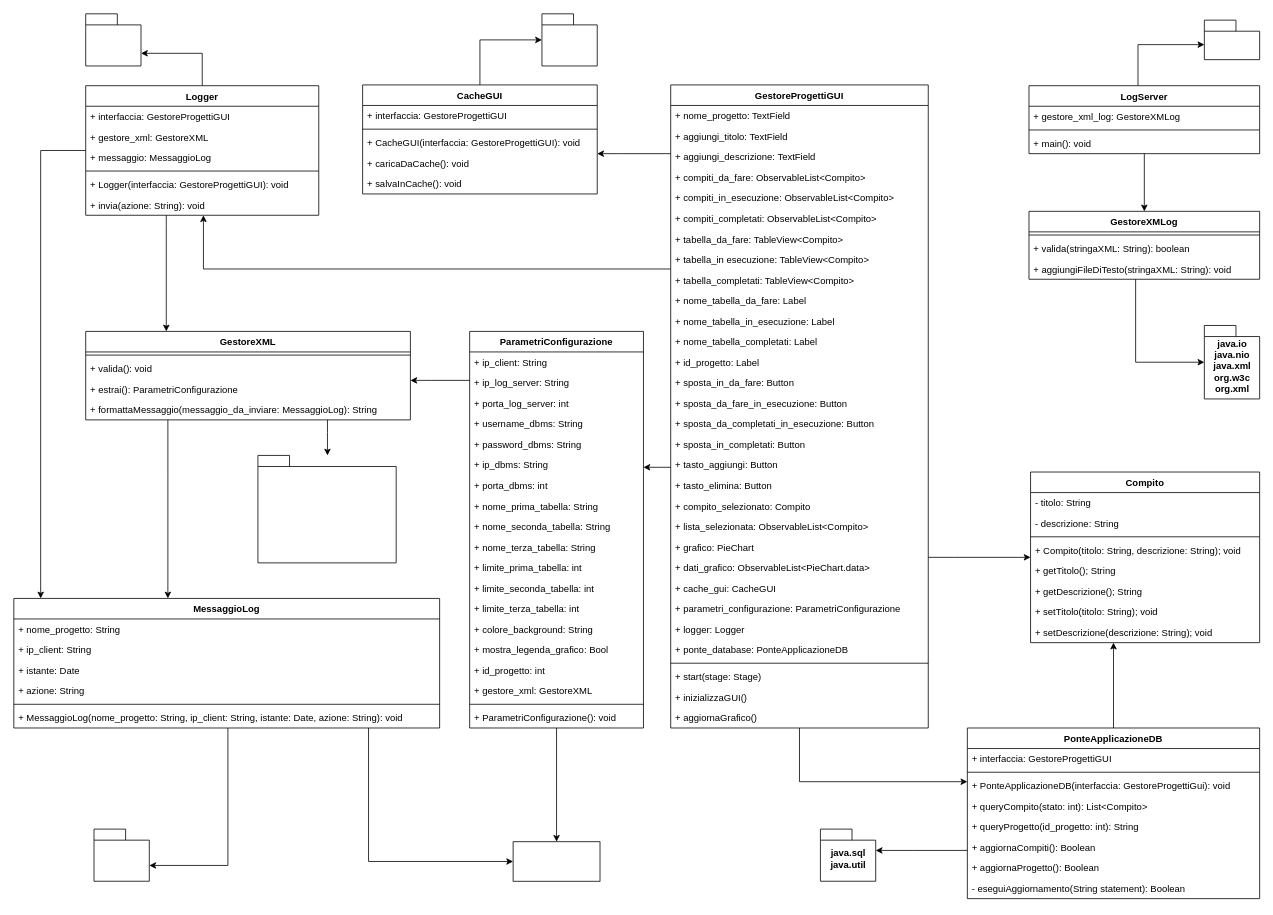
Some shapes in this 1273 by 915 pixel diagram are drawn without their labels. The centre of each missing label's shape, as x and y in pixels:
"com.thoughtworks.xstream java.io java.nio javax.sml org.w3c org.xml" belongs at pixel 326 509.
"java.io" belongs at pixel 569 39.
"java.io java.net" belongs at pixel 1232 39.
"java.io java.net java.util" belongs at pixel 113 39.
"java.io java.util" belongs at pixel 121 854.
"«interface» Serializable" belongs at pixel 556 861.
